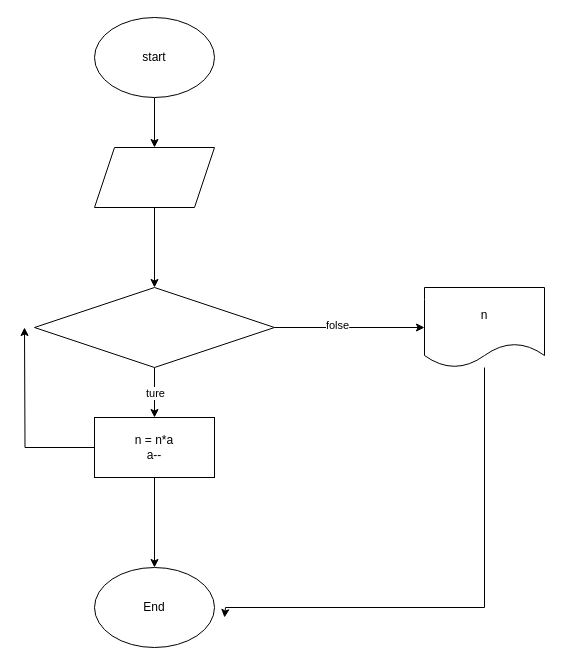
Some shapes in this 562 by 665 pixel diagram are drawn without their labels. Here are the shapes that lost their labels. From the top down, the box of each, then its label:
(94, 146, 214, 208): let = a n = 1
(34, 286, 274, 368): a>0
